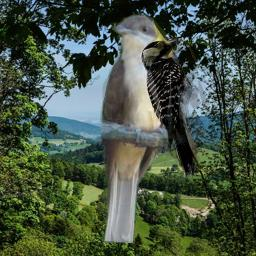Cuckoo: (97, 14, 181, 243)
Woodpecker: (140, 38, 210, 181)
